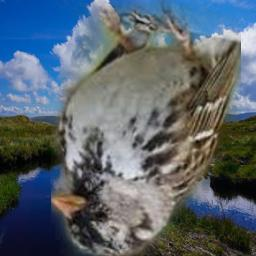Sparrow: (51, 0, 241, 256)
